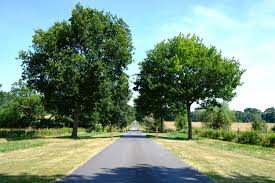strada: (102, 117, 168, 183)
